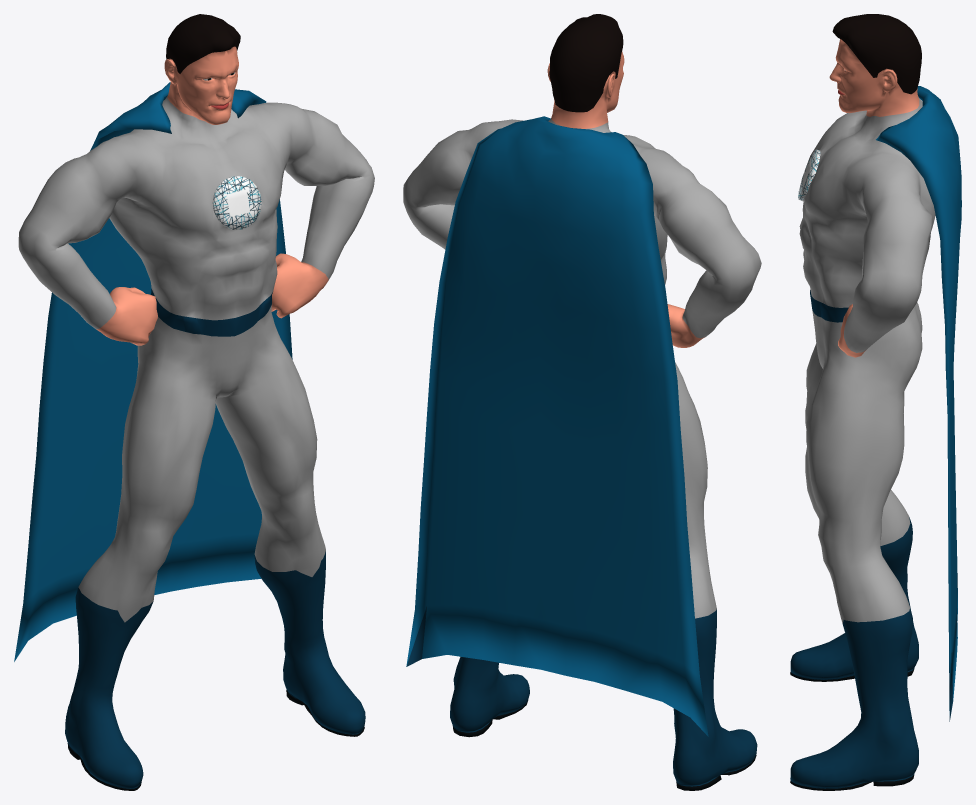
The model's file is superopenmaterialsshadeswrap.obj.
3 renders of one model, left to right at view 1: azimuth 30°, elevation 25°; view 2: azimuth 150°, elevation 25°; view 3: azimuth 270°, elevation 25°, orthographic. The views are drawn at different scales.
Visible parts, largest first — view 1: SuperMan; view 2: SuperMan; view 3: SuperMan.
Boxes of the visible parts, box(x1,y1,x2,y2) form: SuperMan: box(14, 14, 374, 790); SuperMan: box(403, 14, 761, 790); SuperMan: box(790, 14, 961, 790).
Bounding box in the file's own units: 3.96 × 7.87 × 1.72.
Materials: 15 (1 with a texture image).
